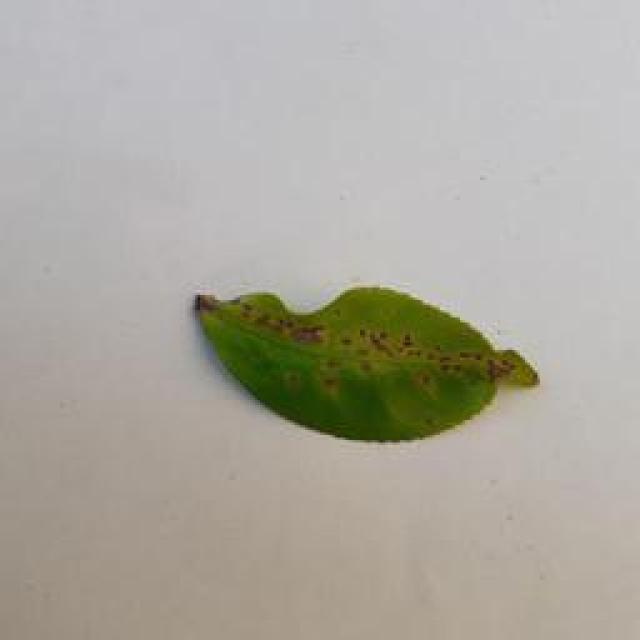Helopeltis: (178, 270, 545, 454)
